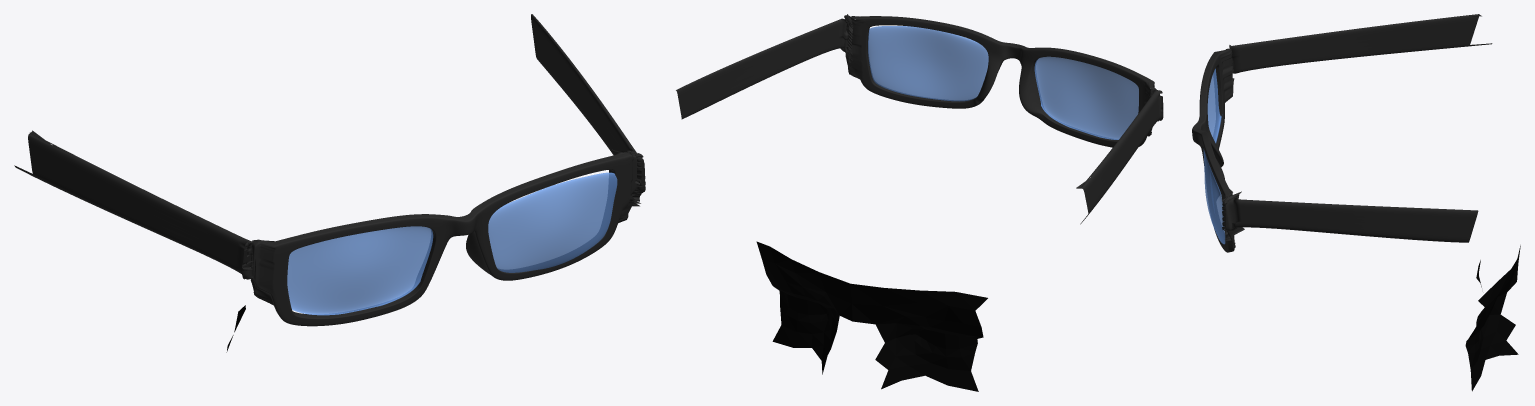
File: glass9.gltf
The picture shows the model from 3 angles, left to right: view 1: azimuth 30°, elevation 25°; view 2: azimuth 150°, elevation 25°; view 3: azimuth 270°, elevation 25°; orthographic projection. The views are drawn at different scales.
Visible parts, largest first — view 1: glasses_frame_HyperNURBS_Cube4_Cube, glasses_lens_left_lens_Cube5_Cube3, glasses_lens_right_lens_Cube1_Cube2; view 2: facemesh, glasses_frame_HyperNURBS_Cube4_Cube, glasses_lens_right_lens_Cube1_Cube2, glasses_lens_left_lens_Cube5_Cube3; view 3: glasses_frame_HyperNURBS_Cube4_Cube, facemesh, glasses_lens_right_lens_Cube1_Cube2, glasses_lens_left_lens_Cube5_Cube3.
Part boxes in pixels (x1,y1,x2,y2): glasses_frame_HyperNURBS_Cube4_Cube: [14, 14, 645, 326]; glasses_lens_left_lens_Cube5_Cube3: [287, 226, 433, 315]; glasses_lens_right_lens_Cube1_Cube2: [488, 172, 617, 272]; facemesh: [756, 241, 987, 391]; glasses_frame_HyperNURBS_Cube4_Cube: [676, 14, 1163, 224]; glasses_lens_right_lens_Cube1_Cube2: [868, 26, 988, 101]; glasses_lens_left_lens_Cube5_Cube3: [1034, 56, 1138, 139]; glasses_frame_HyperNURBS_Cube4_Cube: [1192, 14, 1492, 252]; facemesh: [1465, 245, 1520, 391]; glasses_lens_right_lens_Cube1_Cube2: [1203, 149, 1225, 244]; glasses_lens_left_lens_Cube5_Cube3: [1207, 68, 1222, 143].
Bounding box in the file's own units: 7 × 3.77 × 4.92.
